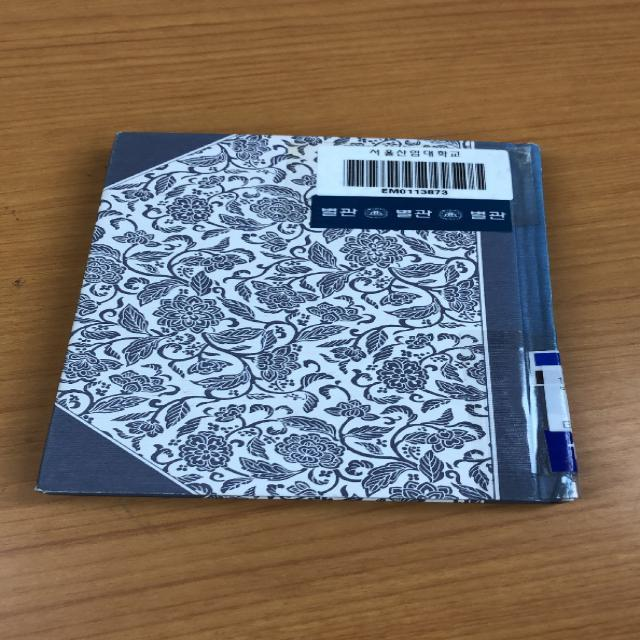Wornout: (30, 479, 105, 498), (134, 482, 202, 501), (498, 139, 544, 152), (109, 126, 138, 145)
